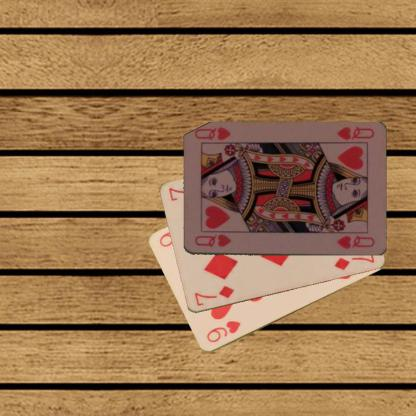7d: (192, 283, 235, 307)
9h: (203, 318, 242, 344)
Qh: (333, 124, 375, 142), (192, 232, 233, 248)
